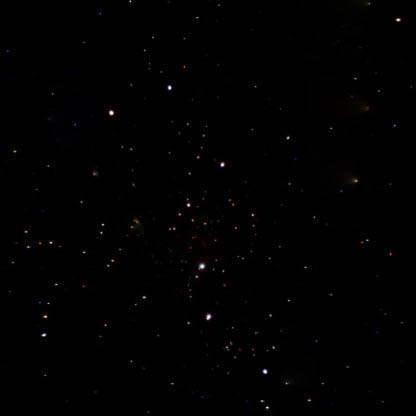Ursa Major: (98, 95, 125, 125), (252, 358, 277, 388), (178, 192, 200, 218), (212, 151, 232, 176), (196, 304, 217, 327), (161, 77, 182, 99), (195, 256, 214, 275)
